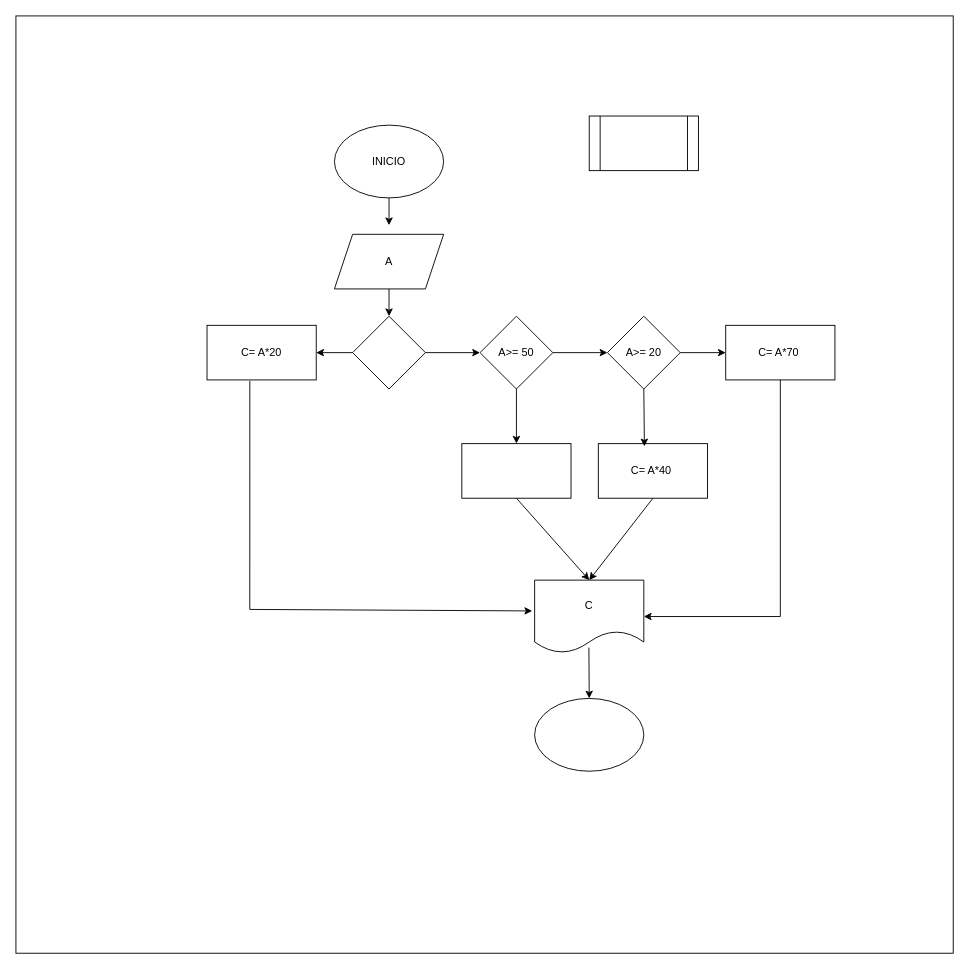
This 969x969 diagram has some shape labels left out. Each missing label, with the centre of its shape:
"A>100" belongs at point (388, 352).
"C = A*35" belongs at point (516, 470).
"DIAGRAMA 5" belongs at point (643, 143).
"FIN" belongs at point (589, 734).
